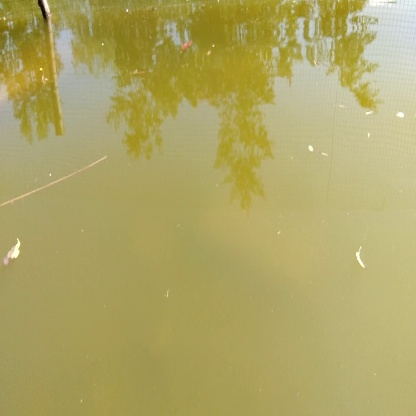branch: (1, 145, 108, 207)
